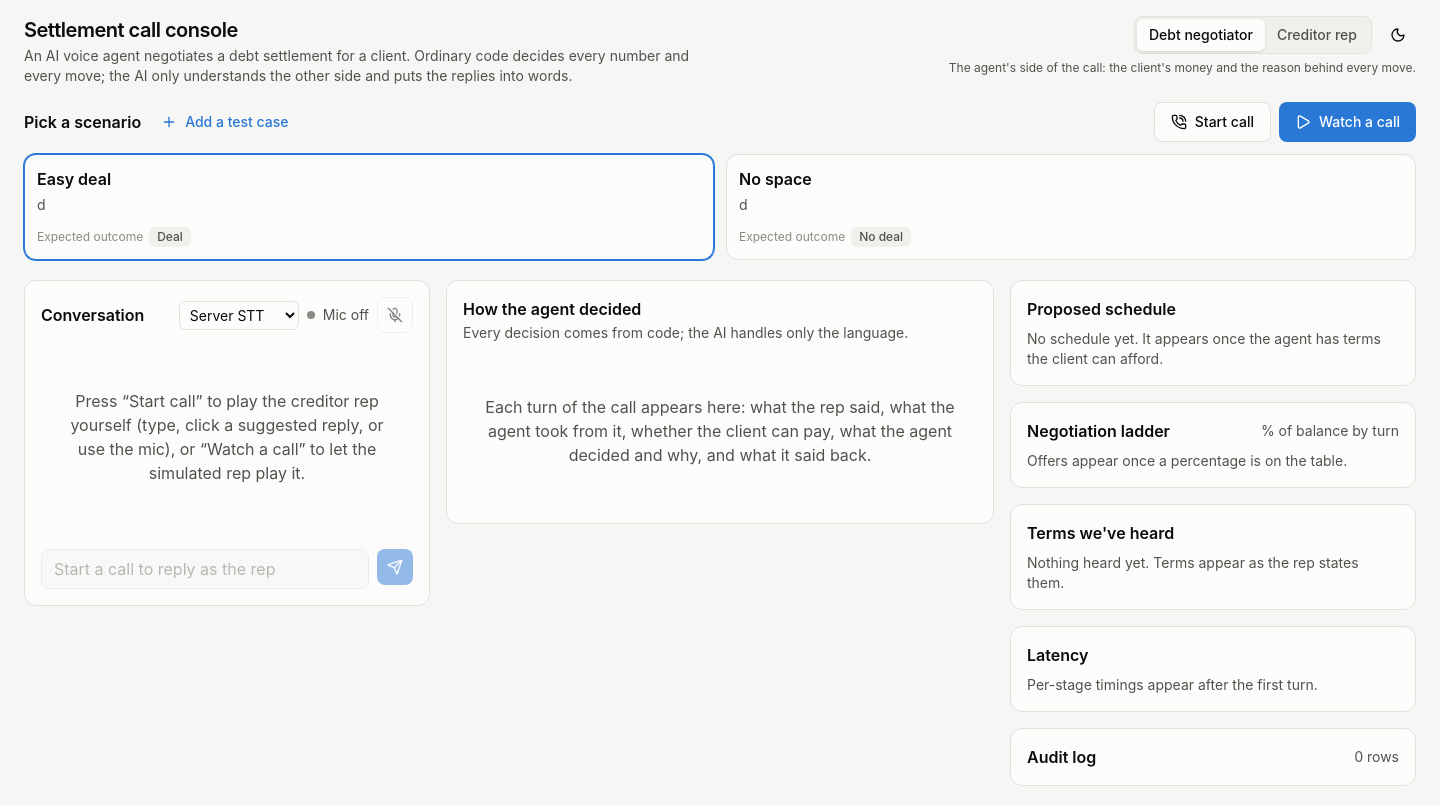
Test: LiveApp custom test cases › shows server errors with their field path and does not add the case
Check: the button "No space d Expected outcome No deal" is shown, box [726, 154, 1416, 260]
Click the button "Add a test case". click: (225, 122)
box: [149, 106, 300, 138]
(page scrolled)
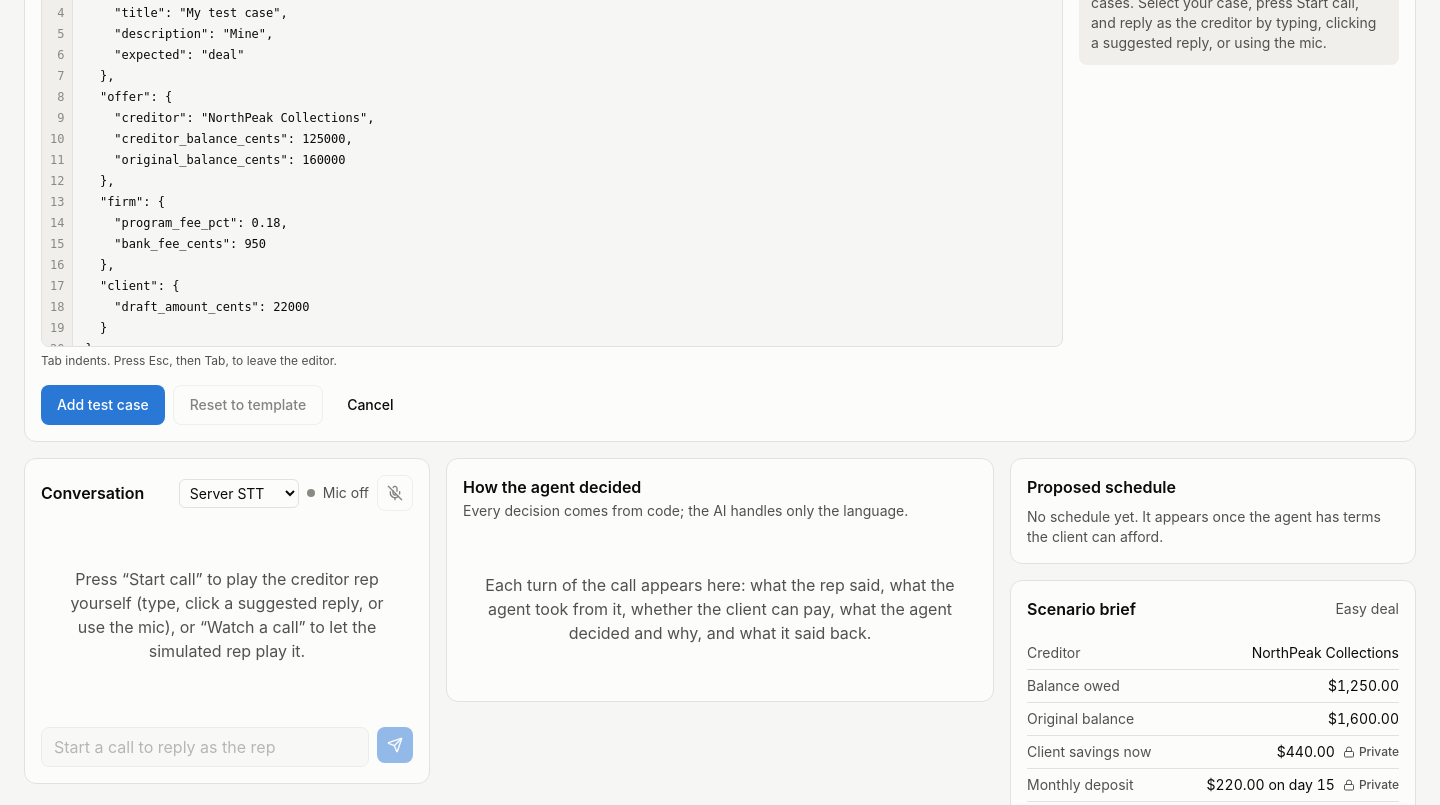
Click the button "Add test case". click: (103, 405)
box: [41, 385, 165, 425]
(page scrolled)
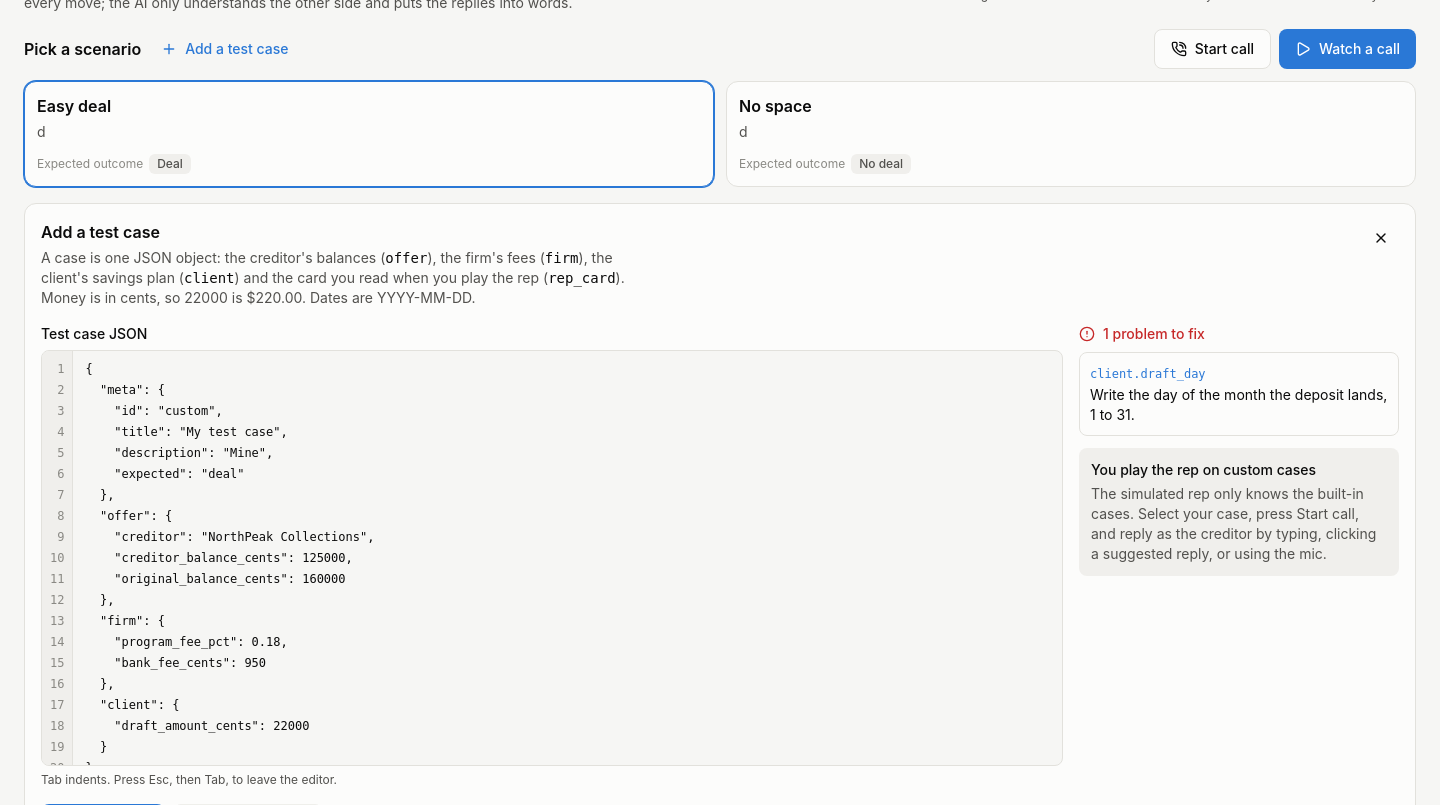
Check: the button "client.draft_day" is shown, box [1090, 366, 1206, 382]
Check: the text "Write the day of the month the deposit lands, 1 to 31." is shown, box [1090, 385, 1388, 425]
